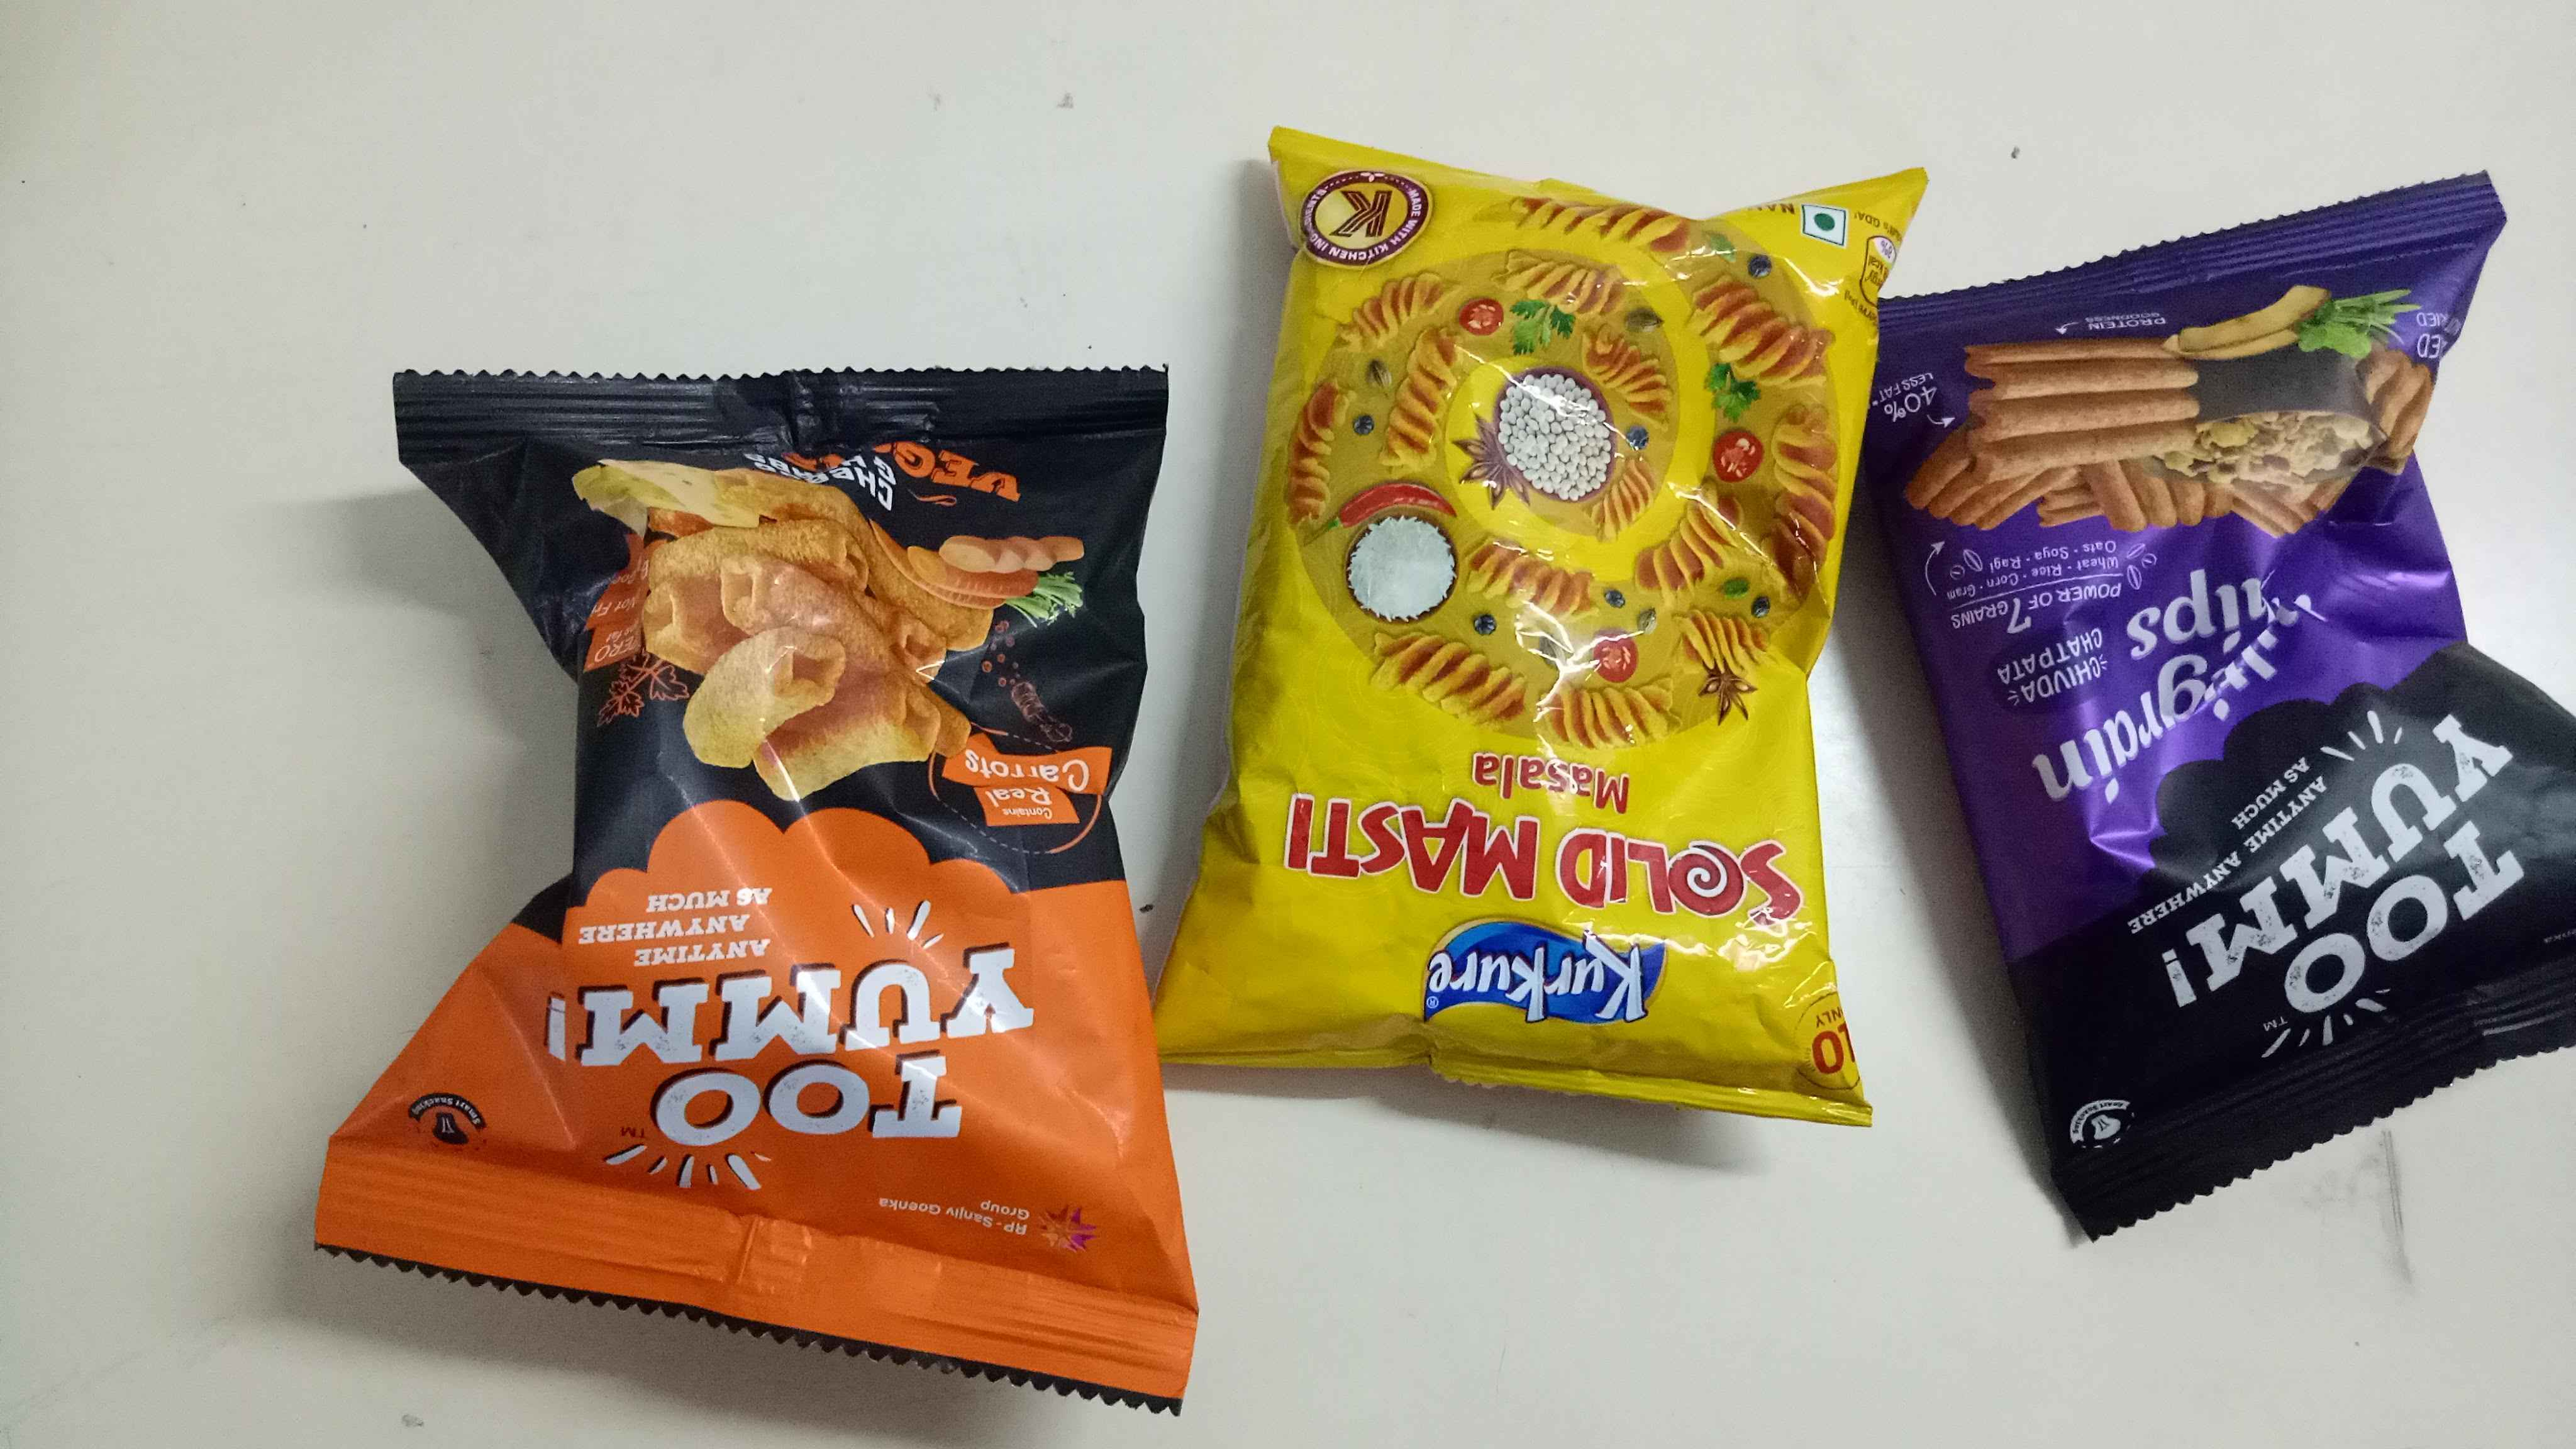kurkure: (1422, 902, 1681, 1054)
tooyumm: (2160, 711, 2525, 1083), (536, 941, 1072, 1169)
